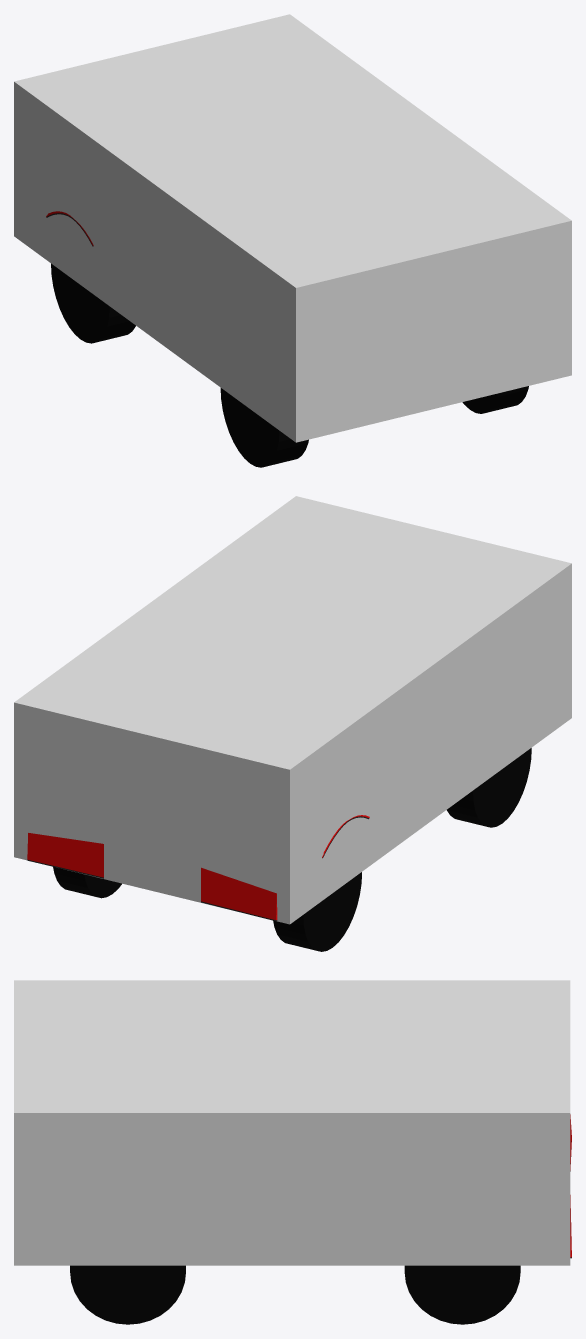
The model's file is car.gltf.
The picture shows the model from 3 angles, top to bottom: view 1: azimuth 30°, elevation 25°; view 2: azimuth 150°, elevation 25°; view 3: azimuth 270°, elevation 25°; orthographic projection.
Visible parts, largest first — view 1: boundingbox, front_wheel_right, rear_wheel_right, front_wheel_left; view 2: boundingbox, car, rear_wheel_right, front_wheel_right, rear_wheel_left; view 3: boundingbox, rear_wheel_left, front_wheel_left.
Part boxes in pixels (x1=…): boundingbox: x1=14, y1=14, x2=571, y2=442; front_wheel_right: x1=220, y1=388, x2=308, y2=467; rear_wheel_right: x1=51, y1=263, x2=135, y2=343; front_wheel_left: x1=462, y1=386, x2=528, y2=413; boundingbox: x1=14, y1=496, x2=571, y2=924; car: x1=27, y1=815, x2=369, y2=919; rear_wheel_right: x1=273, y1=872, x2=361, y2=951; front_wheel_right: x1=447, y1=748, x2=531, y2=827; rear_wheel_left: x1=53, y1=867, x2=121, y2=898; boundingbox: x1=14, y1=980, x2=570, y2=1265; rear_wheel_left: x1=404, y1=1265, x2=520, y2=1324; front_wheel_left: x1=70, y1=1265, x2=185, y2=1324.
Size of the model in its own units: 2.7 by 2.06 by 4.79.
